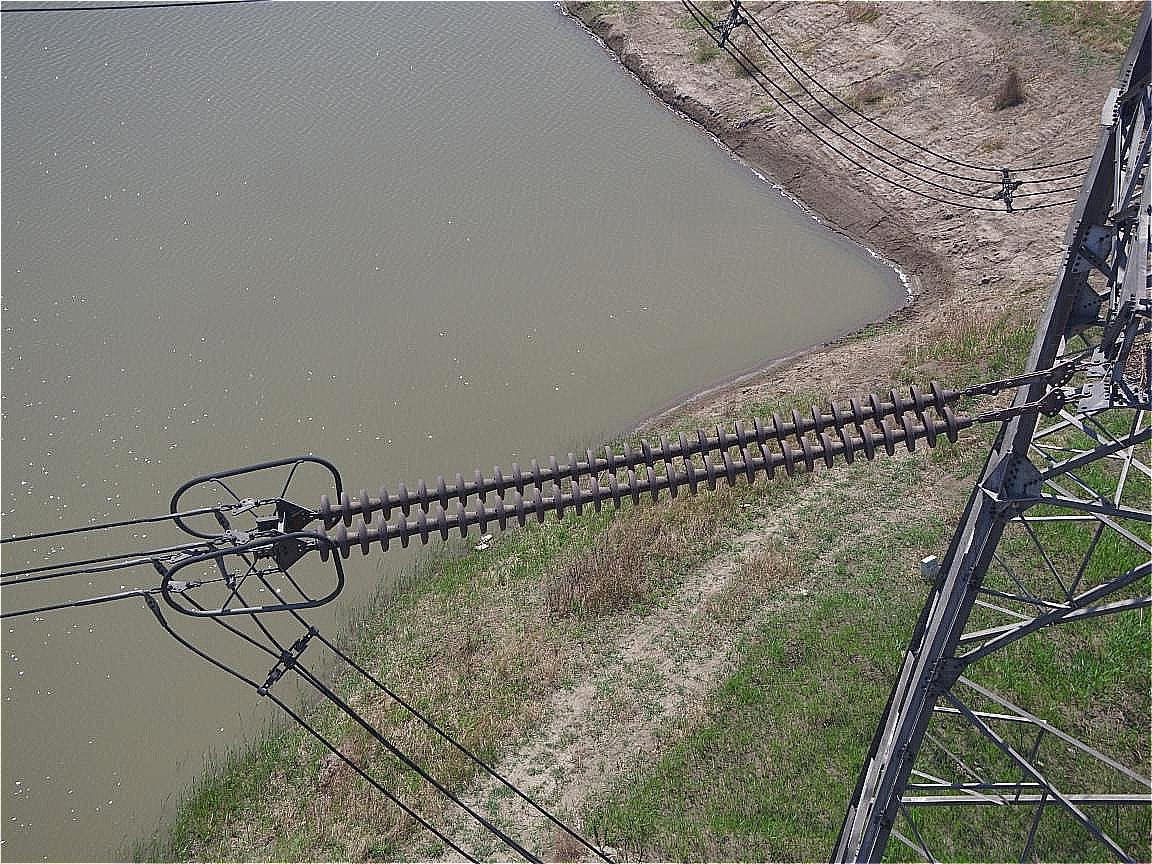insultor1: (298, 366, 983, 569)
